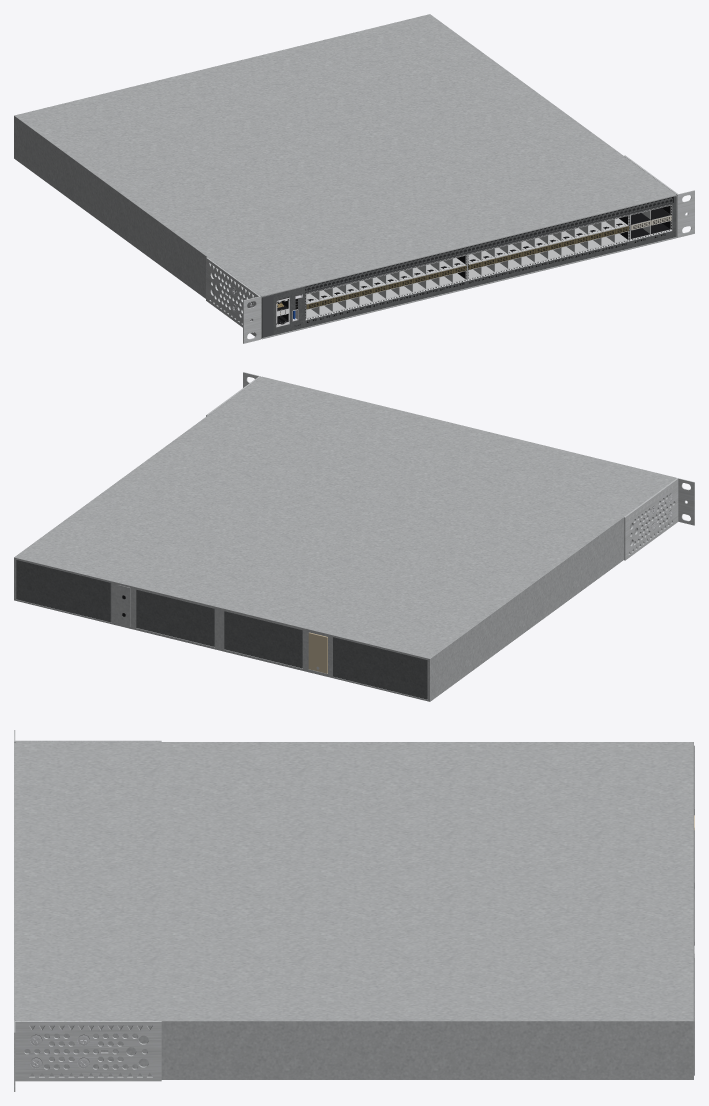
3 views of the same model, one above another, from view 1: azimuth 30°, elevation 25°; view 2: azimuth 150°, elevation 25°; view 3: azimuth 270°, elevation 25° (orthographic). The views are drawn at different scales.
Parts seen in each view (by area): view 1: Shell, Port_Cages, Rack_Ears, Vent_Top, Front_Lip, Front_Details; view 2: Shell, empty:PS-1, empty:PS-0, Rack_Ears, empty:FAN 0, empty:FAN 1, SSD_Module, Front_Lip, Ground_Pad; view 3: Shell, Rack_Ears, Front_Lip.
Part boxes in pixels (x1,y1,x2,y2): Shell: (14, 14, 676, 337); Port_Cages: (305, 204, 672, 320); Rack_Ears: (206, 155, 694, 343); Vent_Top: (305, 197, 672, 291); Front_Lip: (261, 195, 677, 339); Front_Details: (262, 233, 665, 337); Shell: (14, 377, 676, 701); empty:PS-1: (16, 559, 111, 622); empty:PS-0: (333, 637, 427, 699); Rack_Ears: (206, 372, 694, 560); empty:FAN 0: (224, 611, 302, 668); empty:FAN 1: (136, 589, 214, 646); SSD_Module: (308, 632, 327, 673); Front_Lip: (262, 376, 676, 478); Ground_Pad: (118, 585, 130, 626); Shell: (15, 742, 693, 1079); Rack_Ears: (14, 730, 161, 1091); Front_Lip: (14, 742, 16, 1020).
Bounding box in the file's own units: 0.4826 × 0.044 × 0.4587.
Materials: 22 (4 with a texture image).
